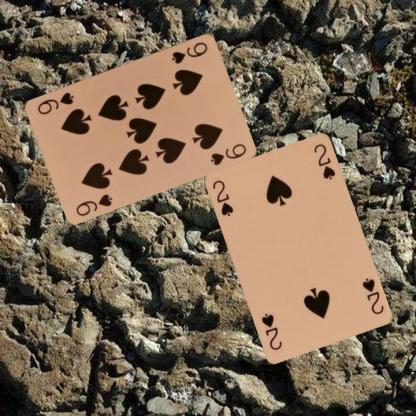2s: (209, 178, 235, 218), (359, 275, 385, 315)
9s: (73, 191, 114, 217), (169, 39, 209, 65)
